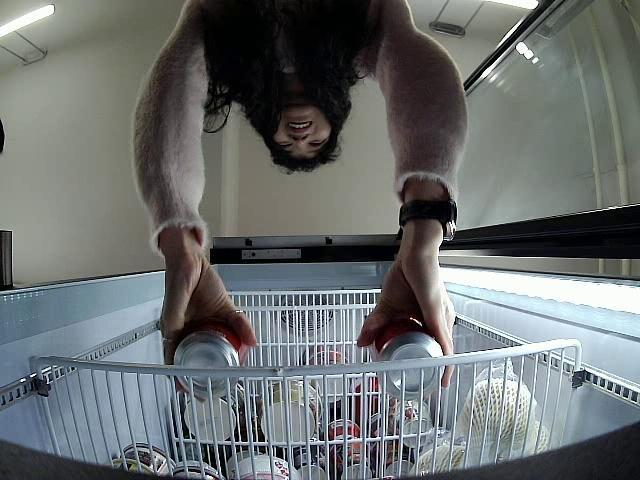11_cocaColaZero: (371, 314, 446, 393), (170, 325, 250, 396)
